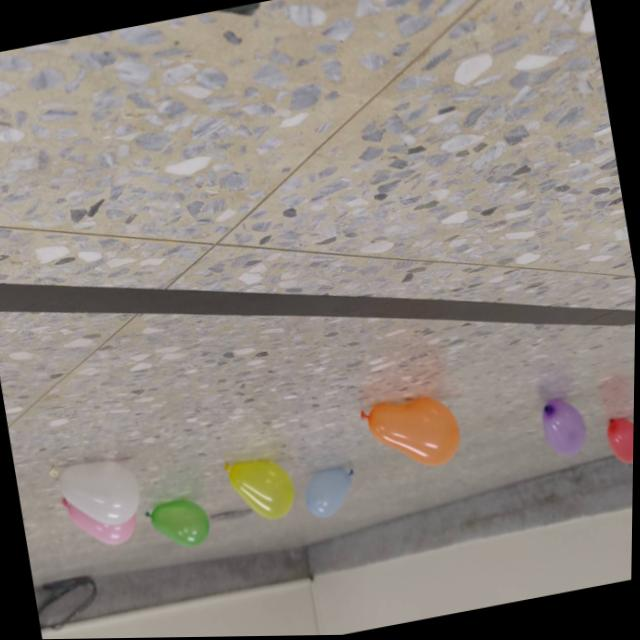other: (359, 393, 466, 481), (51, 453, 146, 533), (221, 449, 300, 529), (59, 486, 142, 559), (144, 494, 215, 556), (302, 465, 365, 524), (540, 396, 593, 461)
red: (605, 415, 635, 470)
